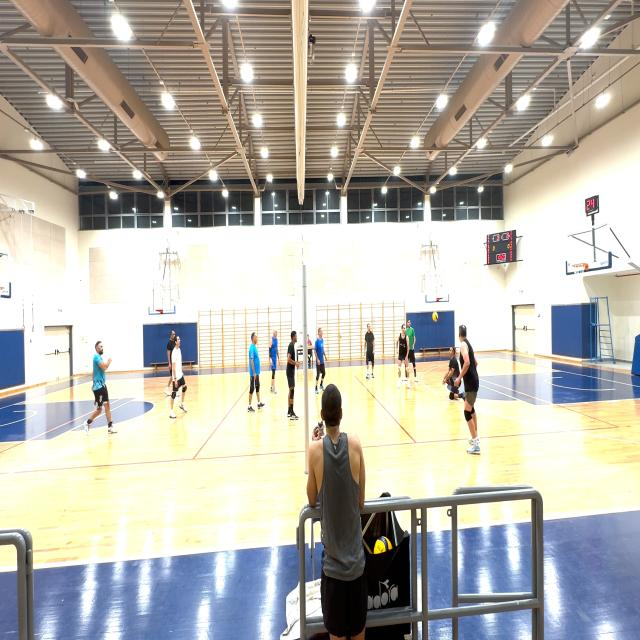volleyball: (373, 535, 392, 555), (432, 310, 438, 322)
